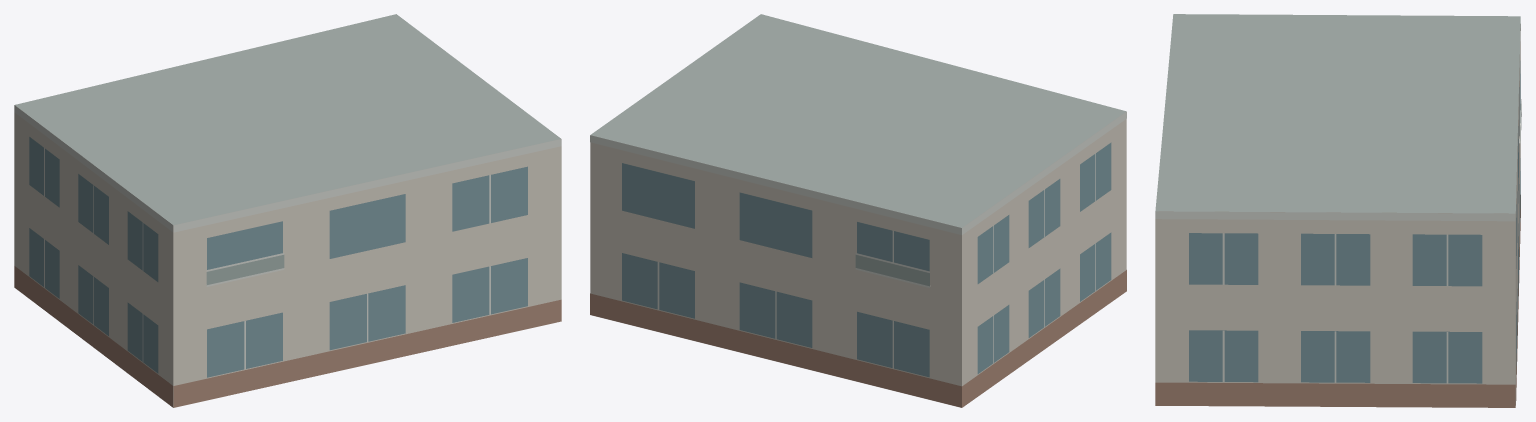
File: survey-upis-32765607.glb
3 views of the same model, side by side, from view 1: azimuth 30°, elevation 25°; view 2: azimuth 150°, elevation 25°; view 3: azimuth 270°, elevation 25° (orthographic). The views are drawn at different scales.
Parts seen in each view (by area): view 1: survey-upis-32765607.tmp; view 2: survey-upis-32765607.tmp; view 3: survey-upis-32765607.tmp.
Part boxes in pixels (<box>): survey-upis-32765607.tmp: <box>14,14,561,407</box>; survey-upis-32765607.tmp: <box>590,14,1126,407</box>; survey-upis-32765607.tmp: <box>1155,14,1521,407</box>.
Bounding box in the file's own units: 13.44 × 6.1 × 10.43.
